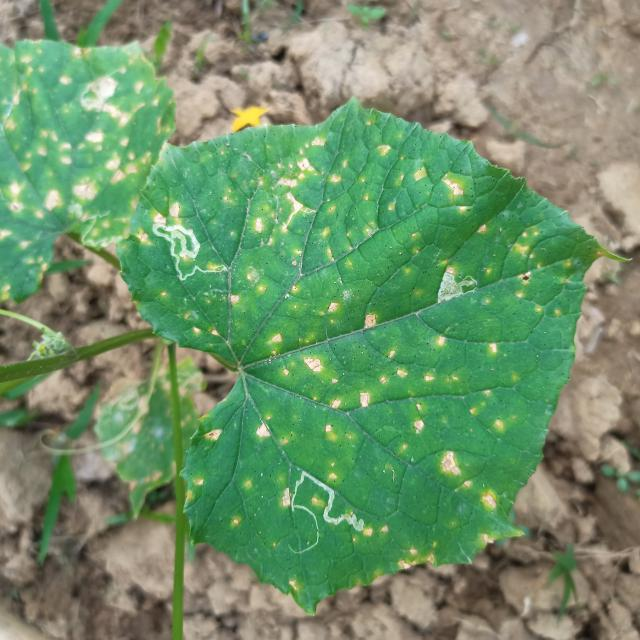disease_cucumber: (149, 129, 542, 567), (0, 52, 135, 267)
